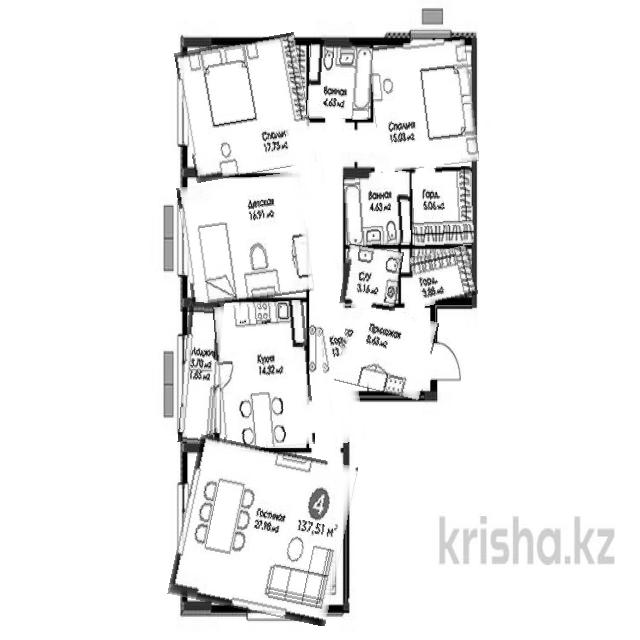balcony: (180, 302, 221, 443)
bathroom: (307, 40, 372, 119), (344, 172, 410, 246), (342, 246, 402, 312)
hallway: (298, 125, 354, 444), (338, 306, 436, 397)
kitchen: (215, 301, 312, 450)
living_room: (174, 442, 350, 619), (180, 37, 312, 179), (180, 175, 311, 304), (370, 39, 475, 171)
other: (412, 168, 473, 246), (412, 247, 476, 304)
